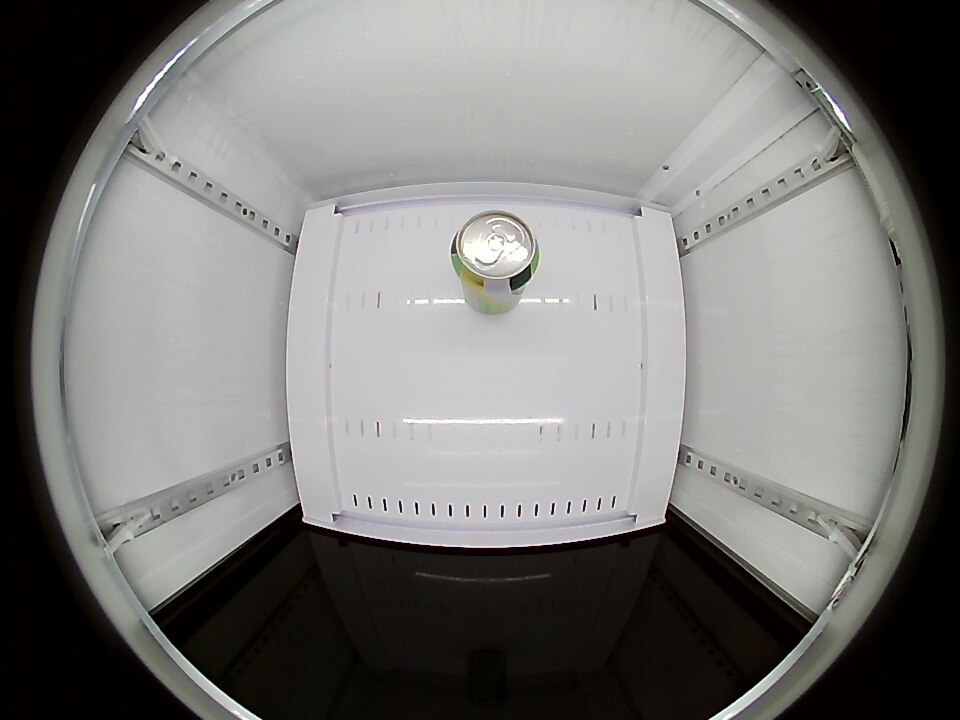quchenshixiangcao: (451, 211, 541, 296)
